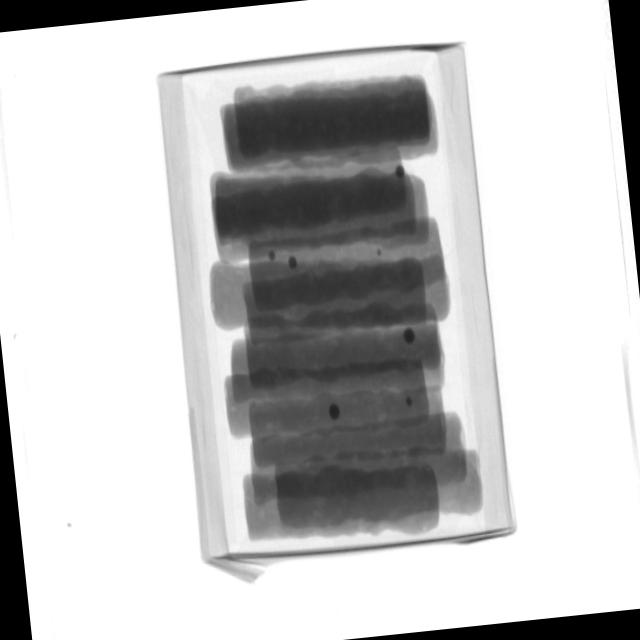ym: (402, 328, 416, 346), (328, 404, 341, 421), (288, 255, 298, 269), (397, 166, 406, 178), (405, 397, 414, 408), (269, 251, 277, 260), (377, 248, 383, 255)
